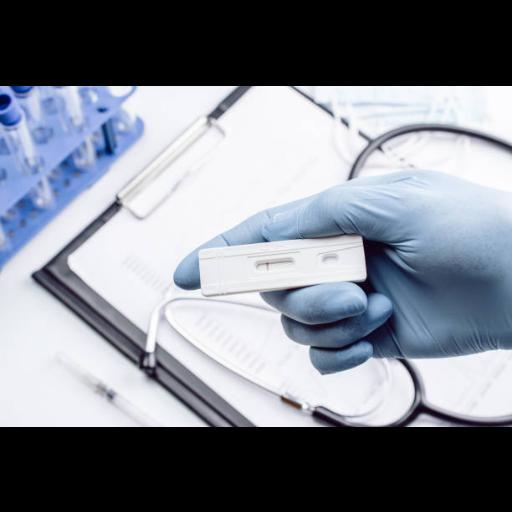Neg: (198, 233, 367, 296)
